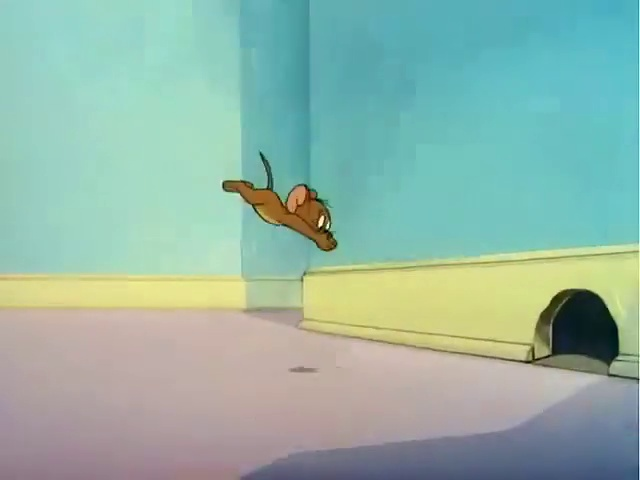jerry: (183, 135, 370, 267)
